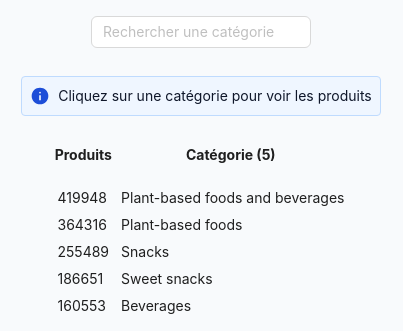
Page Aliments › Aliments
The width and height of the screenshot is (403, 331).
Click the row "419948 Plant-based foods and beverages".
click(201, 200)  # box [54,186,348,213]
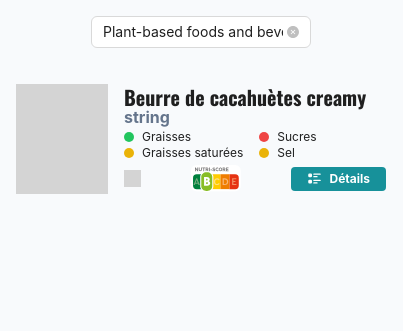
Check: the element with test id "aliments-aliments" is shown, box [16,84,386,194]
